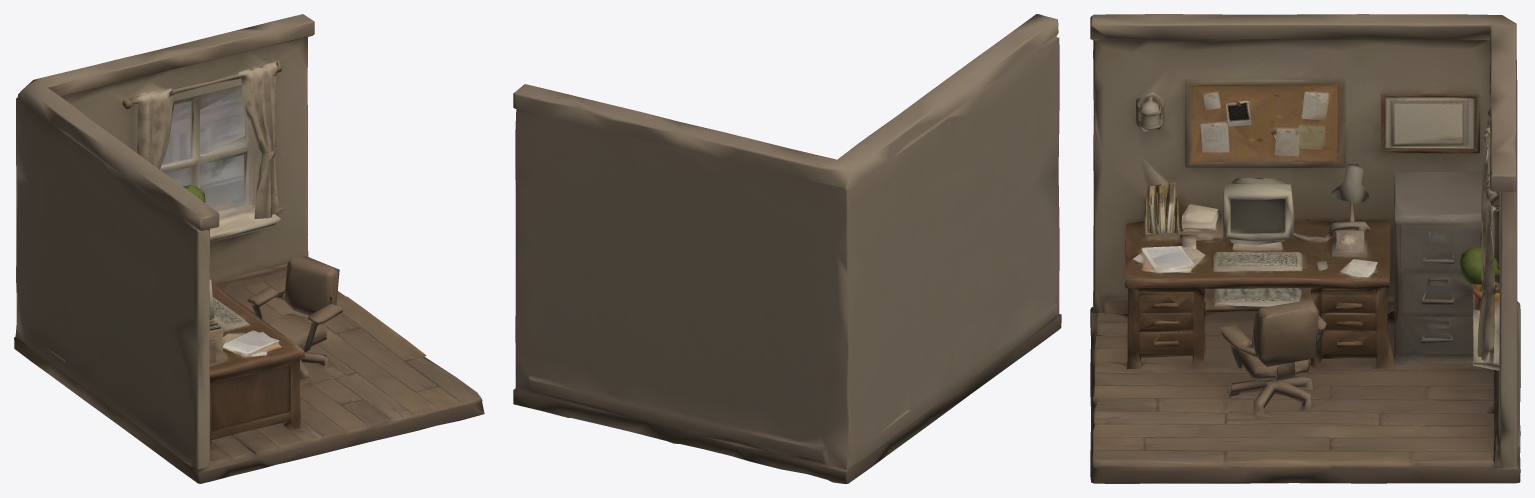
The model's file is office_room.glb.
The picture shows the model from 3 angles, left to right: view 1: azimuth 30°, elevation 25°; view 2: azimuth 150°, elevation 25°; view 3: azimuth 270°, elevation 25°; orthographic projection. The views are drawn at different scales.
Visible parts, largest first — view 1: tripo_node_7c0c8eda-1e73-4cf5-9cd0-be3230733fee; view 2: tripo_node_7c0c8eda-1e73-4cf5-9cd0-be3230733fee; view 3: tripo_node_7c0c8eda-1e73-4cf5-9cd0-be3230733fee.
Part boxes in pixels (left/top/right/bottom): tripo_node_7c0c8eda-1e73-4cf5-9cd0-be3230733fee: left=14, top=14, right=484, bottom=483; tripo_node_7c0c8eda-1e73-4cf5-9cd0-be3230733fee: left=513, top=14, right=1061, bottom=483; tripo_node_7c0c8eda-1e73-4cf5-9cd0-be3230733fee: left=1090, top=14, right=1520, bottom=483.
Bounding box in the file's own units: 0.9056 × 0.7963 × 1.
Materials: 1 (1 with a texture image).
